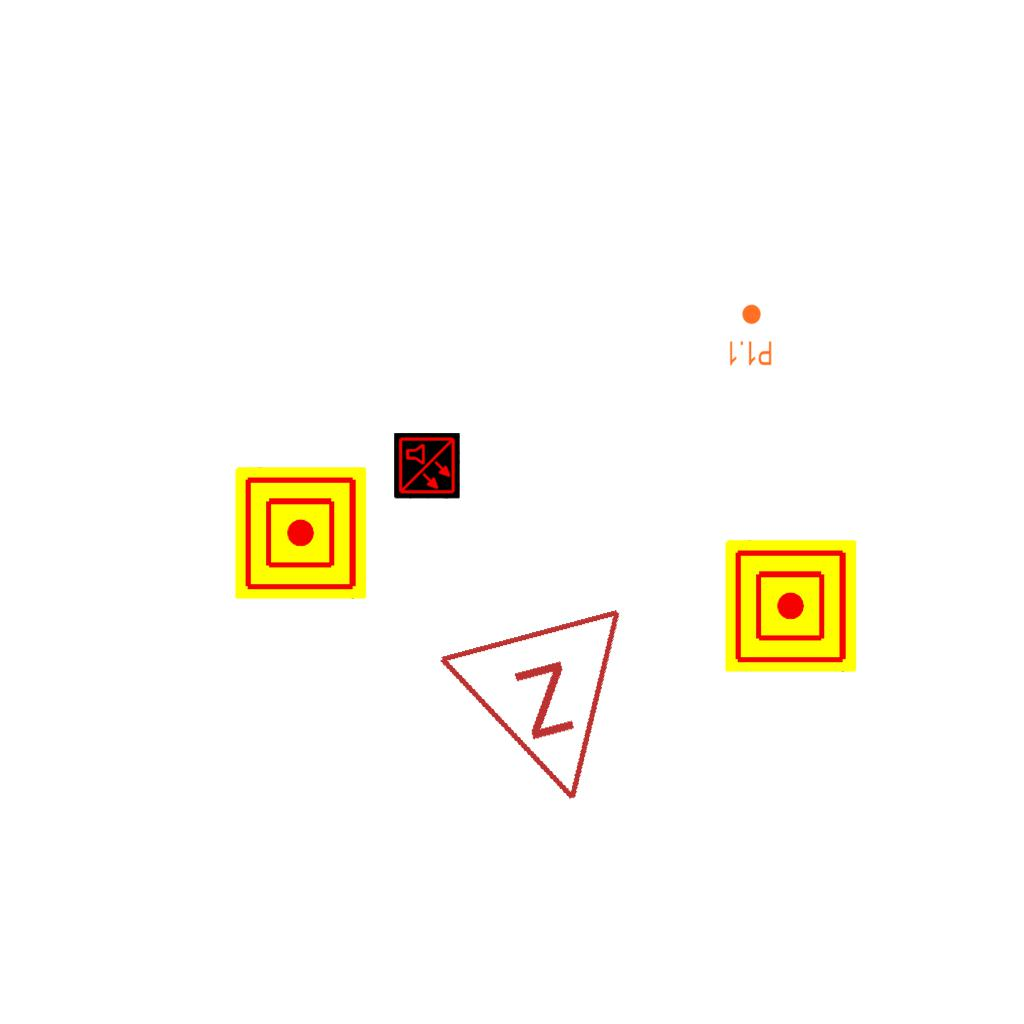Downlight_LED_Einbauleuchten_Flur: (727, 303, 773, 367)
NAM-Nichtautomatischer_Melder: (235, 467, 367, 599), (725, 540, 857, 672)
OKW_Multisensormelder_(Kombination_optischer_Rauch-Kahlenmonoxid_Waerme-Melder): (394, 433, 460, 499)
Zimmersignalleuchte: (432, 593, 674, 837)
